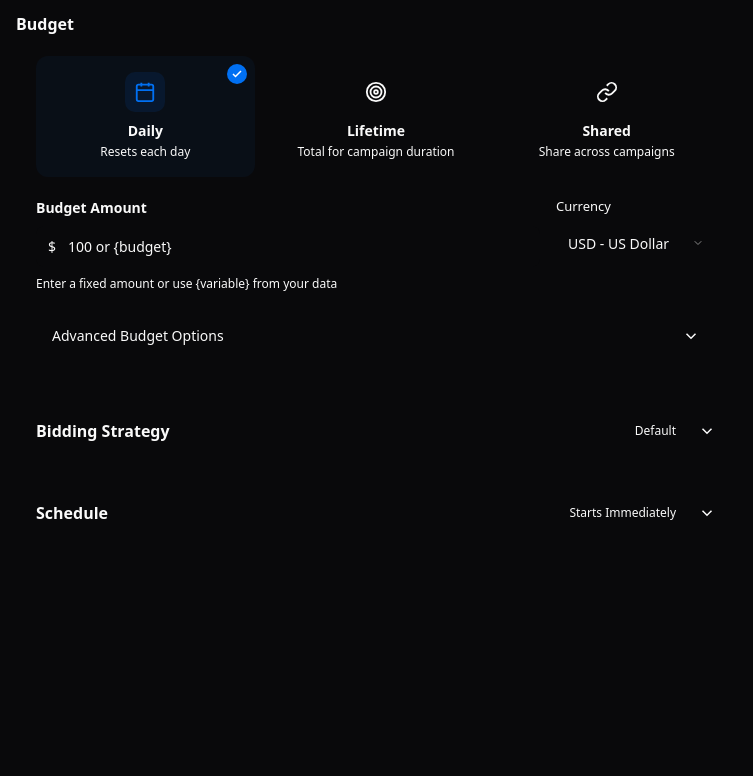
BudgetBiddingConfig › Section Expansion/Collapse › expands schedule section when header is clicked
This screenshot has width=753, height=776.
Click the button "Schedule Starts Immediately". click: x=72, y=513
box: 16,484 -> 736,542
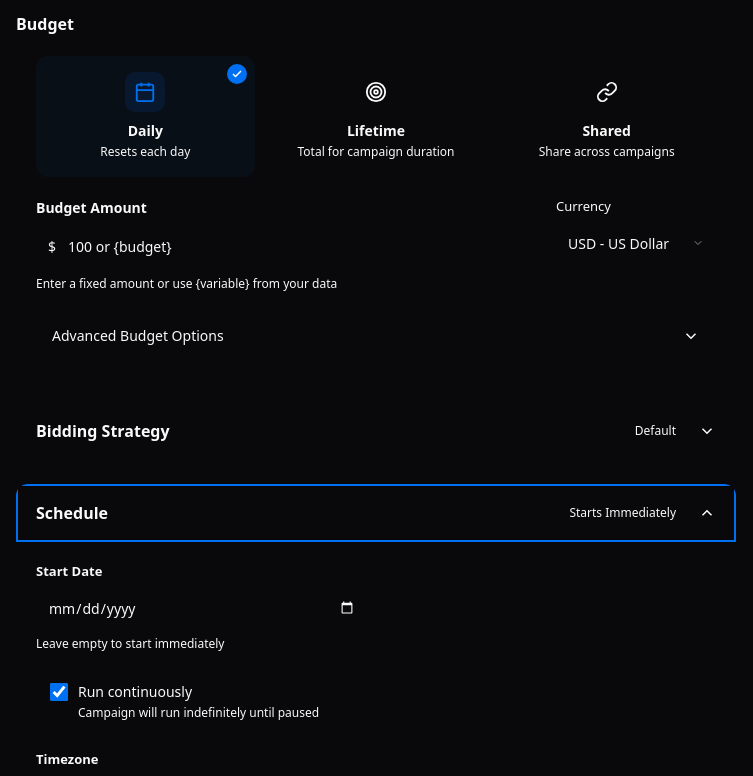
expect the date field labelled "Start Date" is shown: met, box 36,588 -> 368,628
